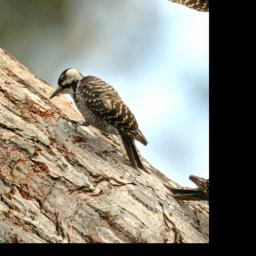Woodpecker: (37, 53, 176, 185)
